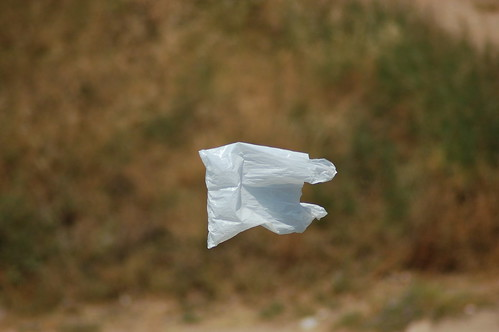plastic bag: (198, 140, 337, 249)
